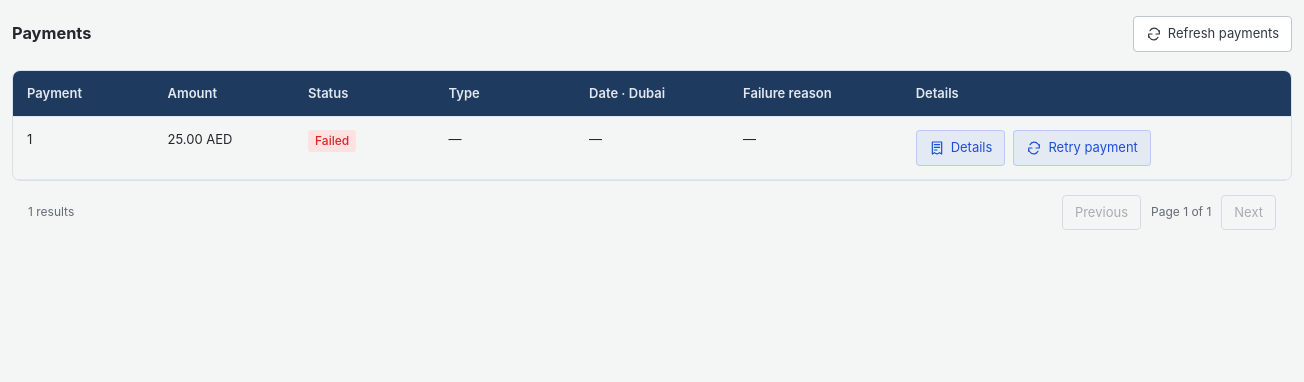
Test case: retries a failed customer payment once after confirmation and refreshes its stored status
Click the button "Retry payment". click: {"x": 1082, "y": 148}
box: [1013,130,1151,166]
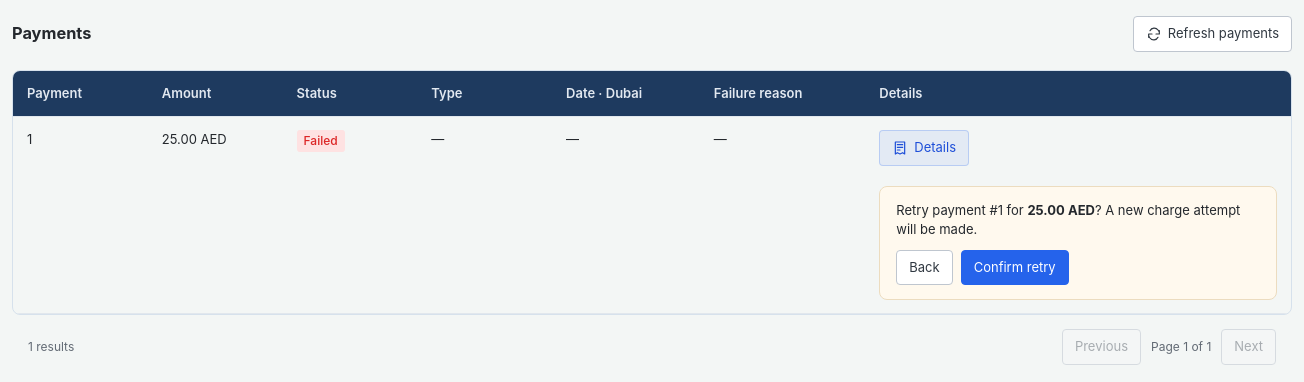
Click the button "Confirm retry". click: {"x": 1015, "y": 267}
box: [961,250,1069,285]
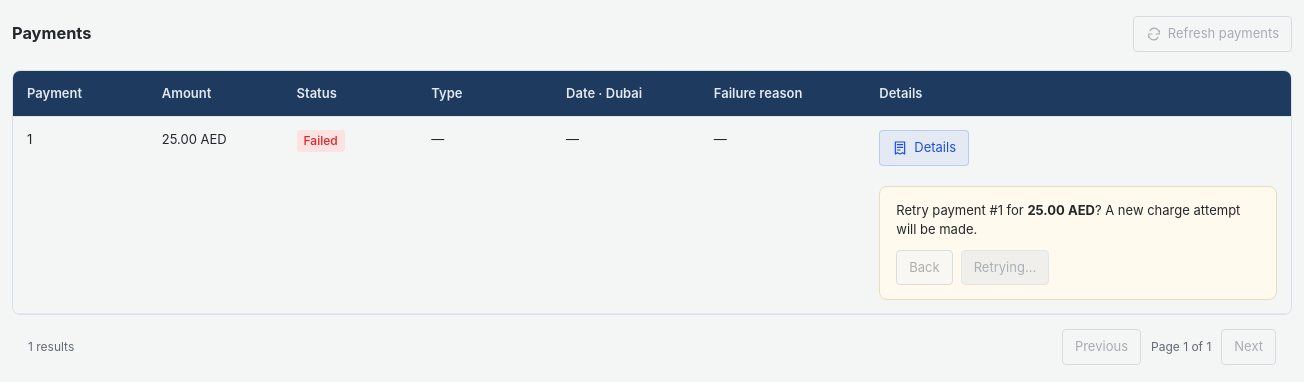
Click the button named "Confirm retry". click: {"x": 1005, "y": 267}
box: [961,250,1049,285]
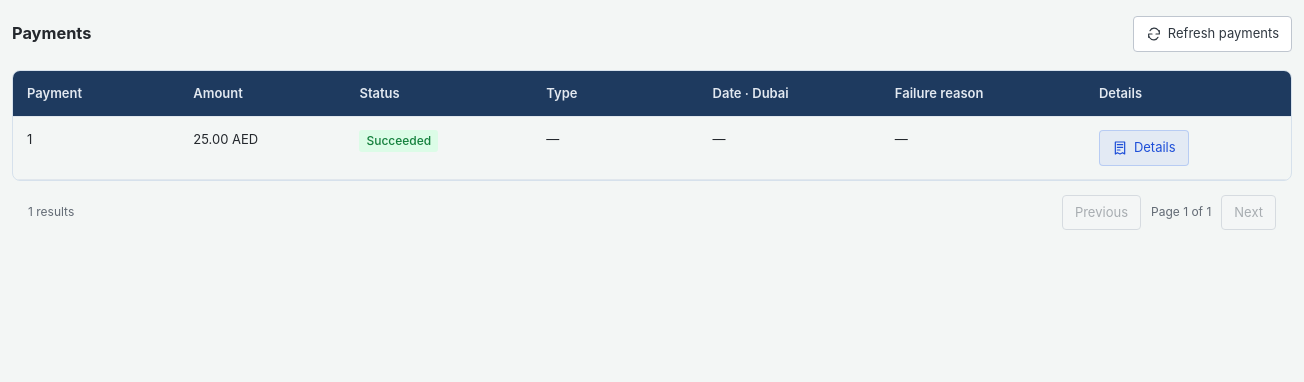
Expected: the text "Succeeded" is shown, [359,130,438,152]
